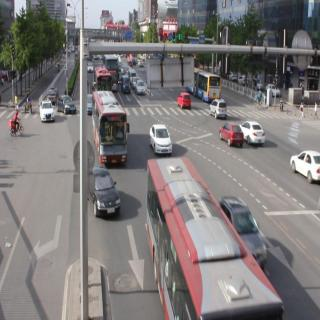BigCar: (139, 147, 283, 320), (86, 80, 133, 168), (188, 59, 220, 109), (91, 66, 113, 100), (103, 47, 120, 90)
Car: (81, 157, 130, 221), (287, 142, 320, 191), (35, 96, 64, 134), (239, 114, 267, 153), (146, 114, 171, 156), (218, 118, 244, 154), (58, 90, 78, 122), (174, 85, 193, 116), (207, 98, 229, 122), (131, 72, 147, 100), (44, 84, 58, 109)
